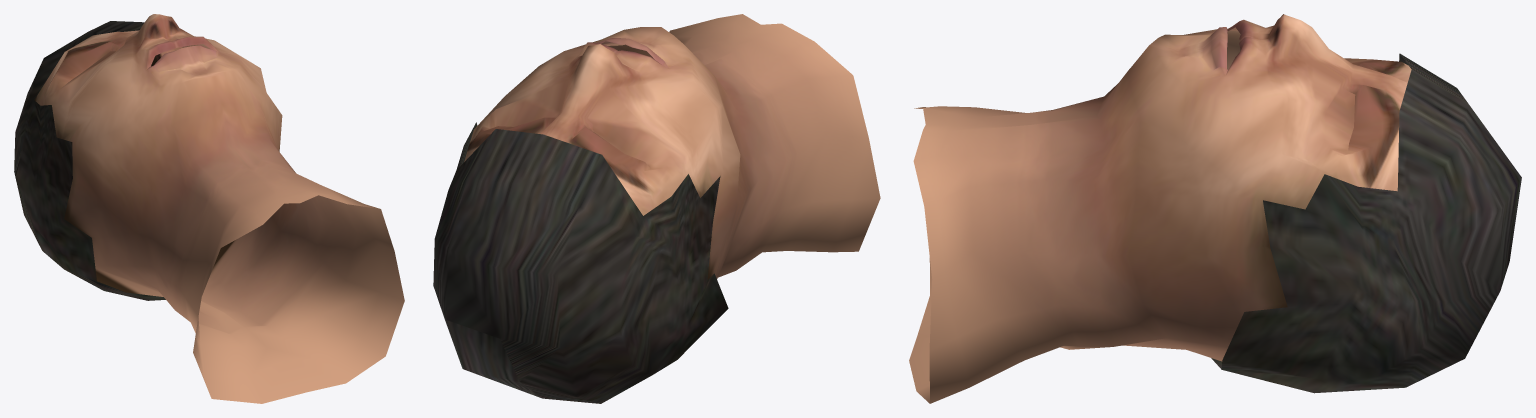
File: ossan-bed.fbx
The picture shows the model from 3 angles, left to right: view 1: azimuth 30°, elevation 25°; view 2: azimuth 150°, elevation 25°; view 3: azimuth 270°, elevation 25°; orthographic projection. The views are drawn at different scales.
Visible parts, largest first — view 1: polySurface10; view 2: polySurface10; view 3: polySurface10.
Part boxes in pixels (box(x1,y1,x2,y2)): polySurface10: box(14, 14, 404, 403); polySurface10: box(433, 14, 880, 403); polySurface10: box(909, 14, 1521, 403).
Bounding box in the file's own units: 1.7 × 2.12 × 3.33.
